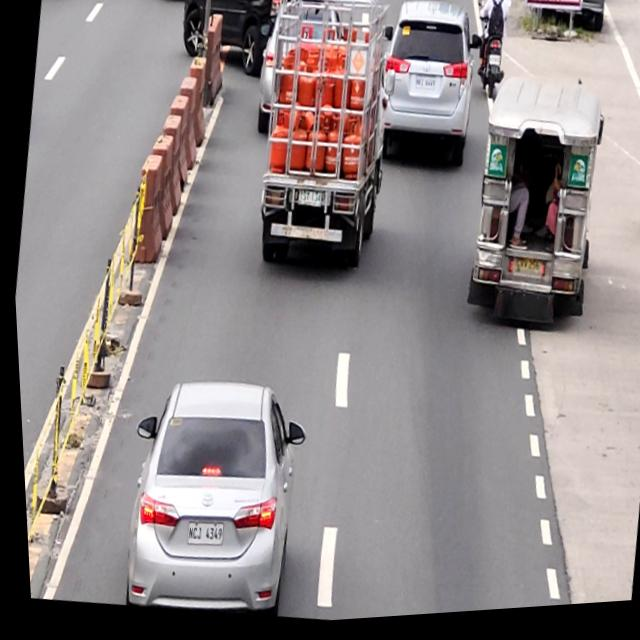Car: (104, 365, 313, 629), (365, 0, 492, 181), (175, 0, 337, 91)
Jeep: (455, 75, 617, 350)
License-Plate: (179, 524, 219, 551), (295, 192, 323, 214), (511, 262, 540, 283), (412, 79, 437, 98), (487, 60, 501, 73)
Motorcycle: (465, 0, 517, 108), (631, 116, 640, 248)
Truck: (239, 0, 414, 284)
